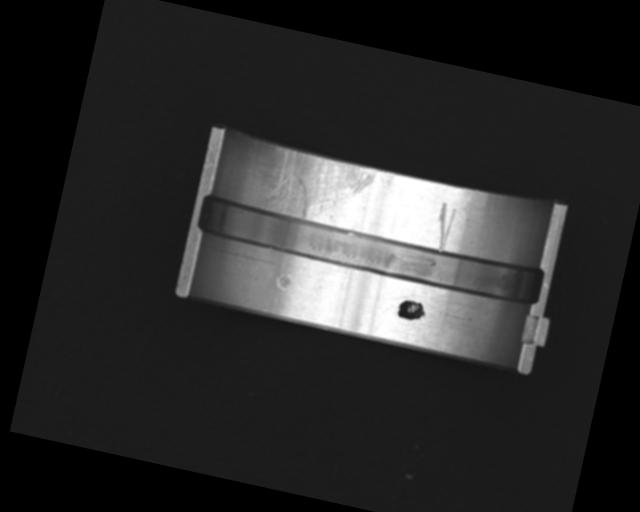blot: (395, 297, 428, 323)
bruise: (274, 269, 293, 292)
gap: (195, 194, 546, 308)
nick: (430, 201, 458, 254)
scratch: (254, 142, 377, 234)
